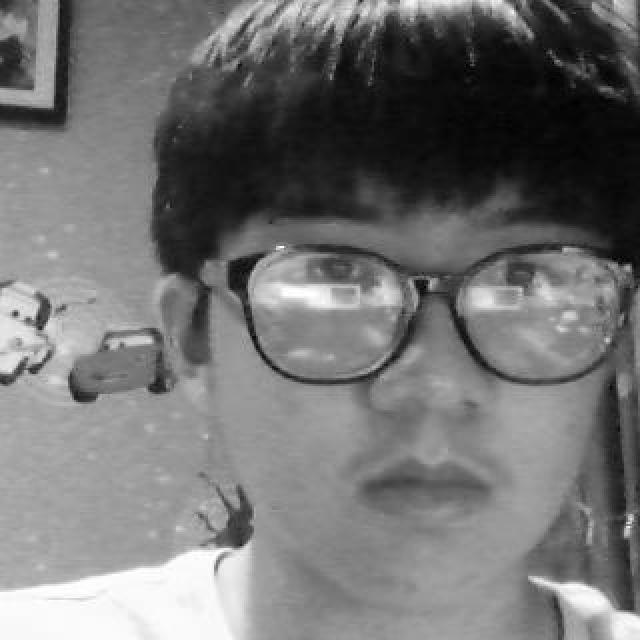Focused: (156, 0, 640, 616)
